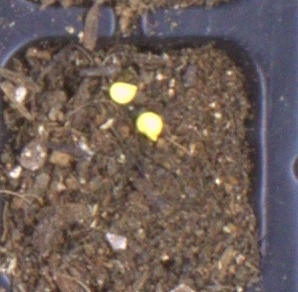chilli seed: (135, 111, 163, 141), (108, 81, 138, 104)
